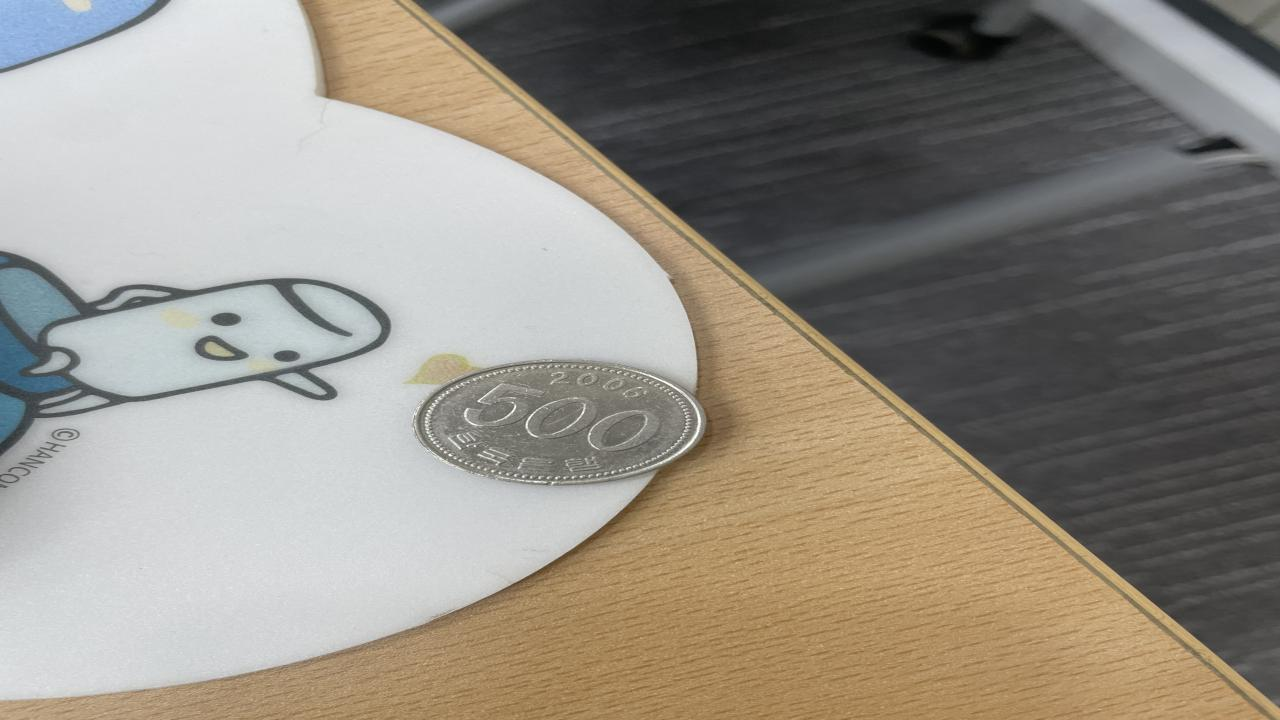coin: (410, 361, 708, 486)
